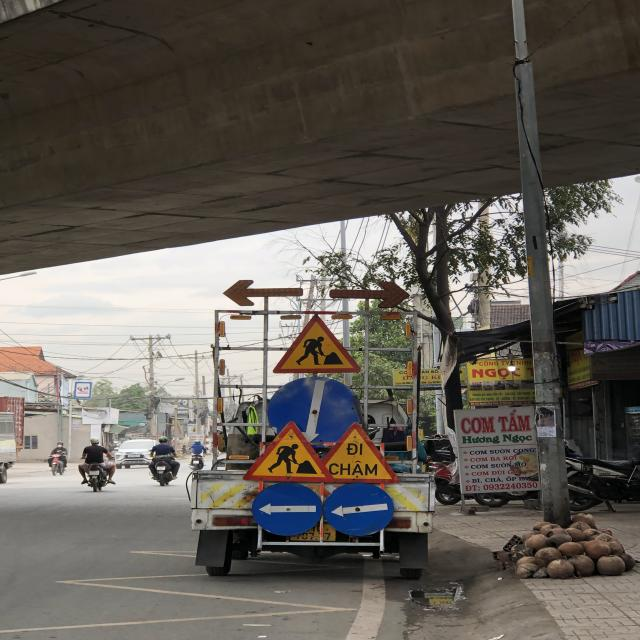Bien bao cong truong: (272, 310, 362, 376), (241, 422, 333, 486)
